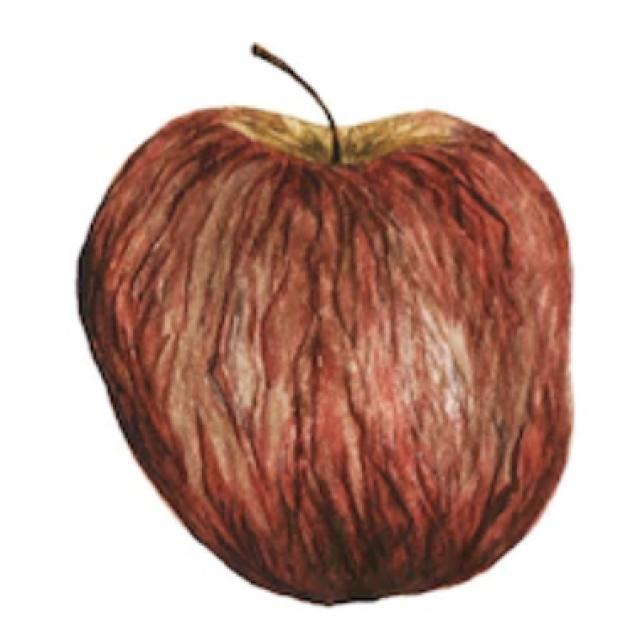Rotten: (97, 110, 605, 597)
